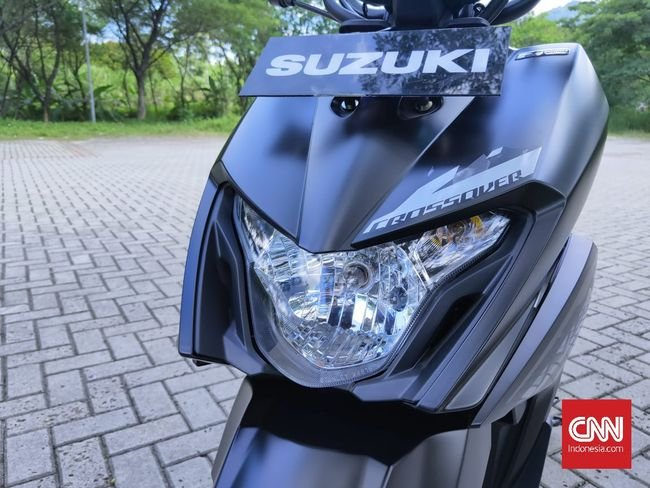motor: (176, 25, 596, 488)
